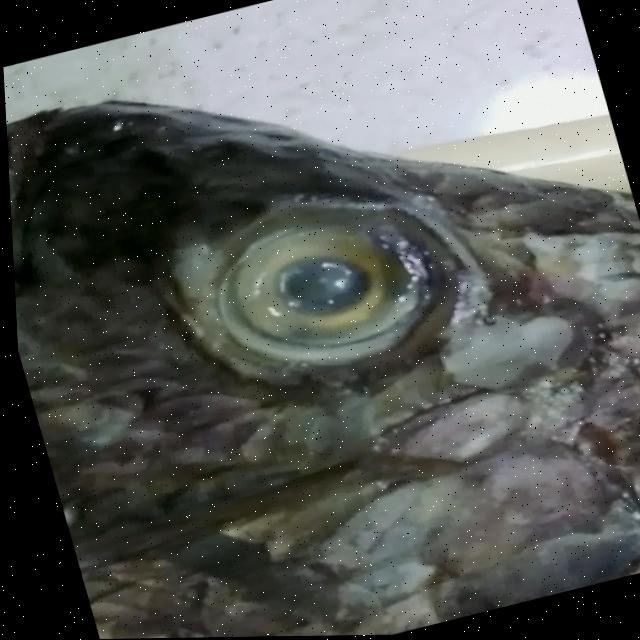Non-Fresh: (120, 127, 515, 430)
